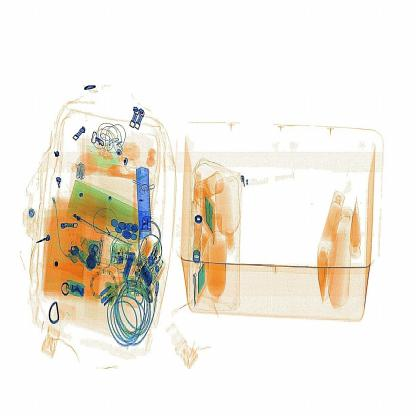pliers: (127, 157, 156, 245)
